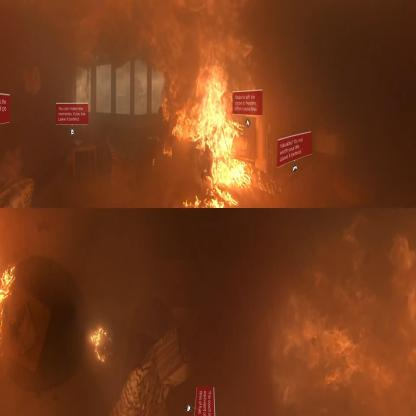fire: (162, 47, 281, 206), (0, 253, 20, 353), (89, 321, 115, 369)
